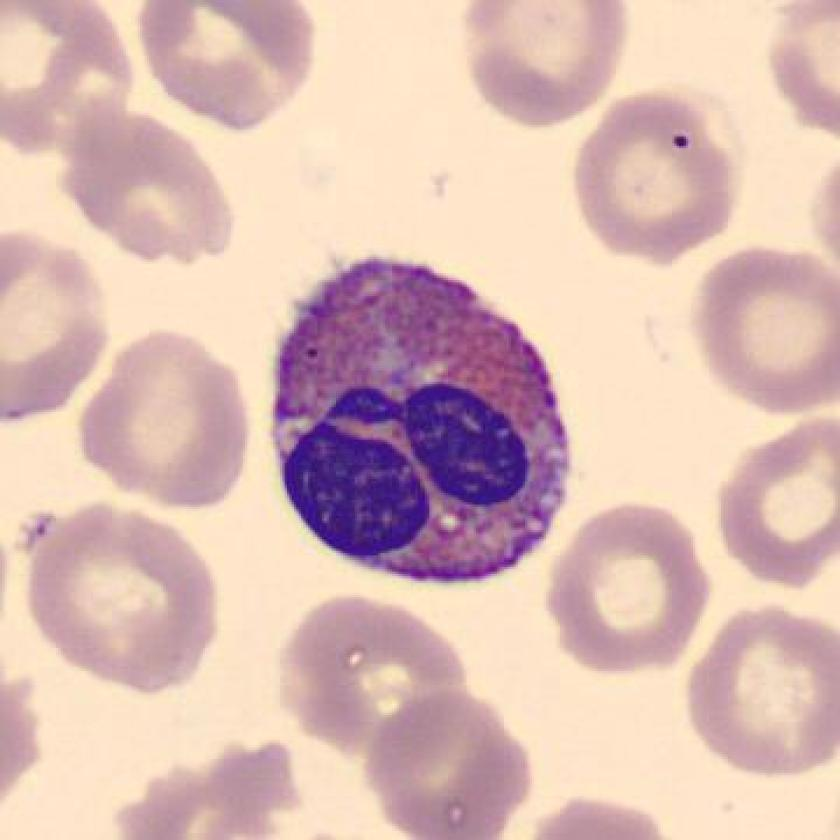eosinophil: (258, 246, 584, 598)
